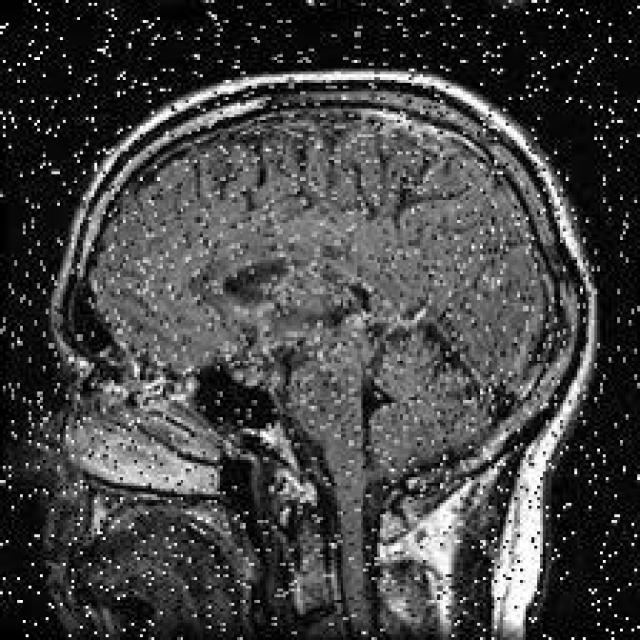no_tumor: (50, 66, 603, 640)
